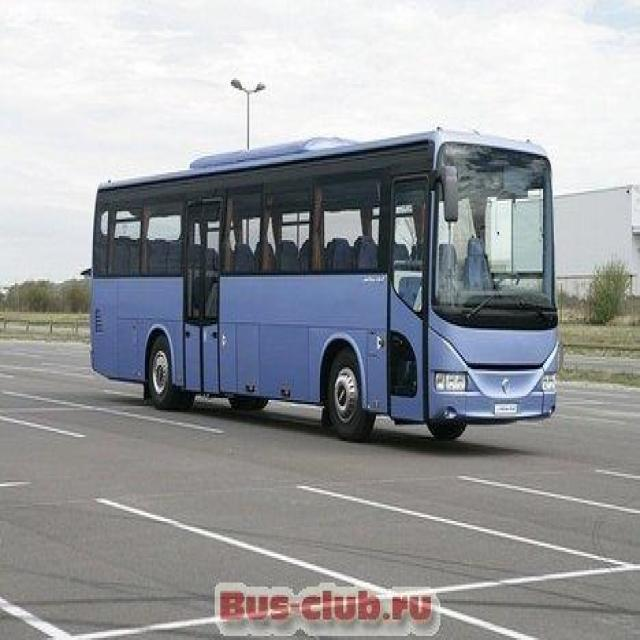bus: (86, 118, 566, 458)
